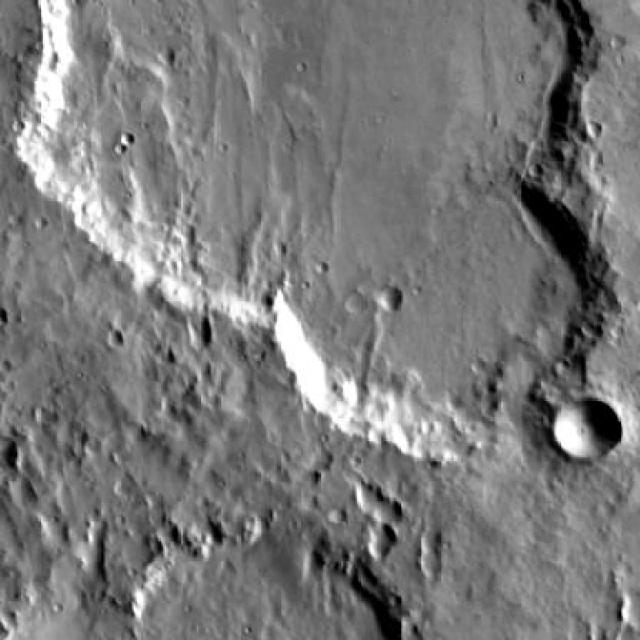crater: (24, 0, 578, 346), (272, 162, 603, 469), (549, 405, 616, 467), (361, 538, 392, 565), (6, 485, 37, 512), (349, 493, 378, 519), (370, 295, 398, 319), (620, 604, 640, 634), (372, 508, 396, 530), (152, 530, 176, 552), (415, 560, 439, 582), (187, 330, 210, 352), (418, 538, 438, 557), (15, 454, 31, 475), (327, 513, 345, 530), (122, 322, 138, 338)
